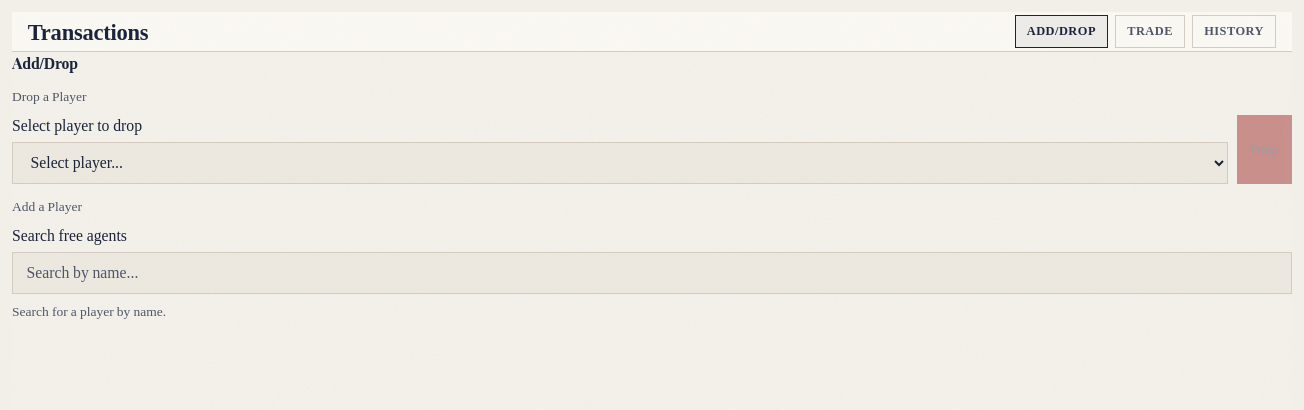
Test: TransactionsPage › shows error when add fails
The width and height of the screenshot is (1304, 410).
Type "Ruth" into the field labelled "Search free agents" at (652,273), box left=12, top=252, right=1292, bottom=294
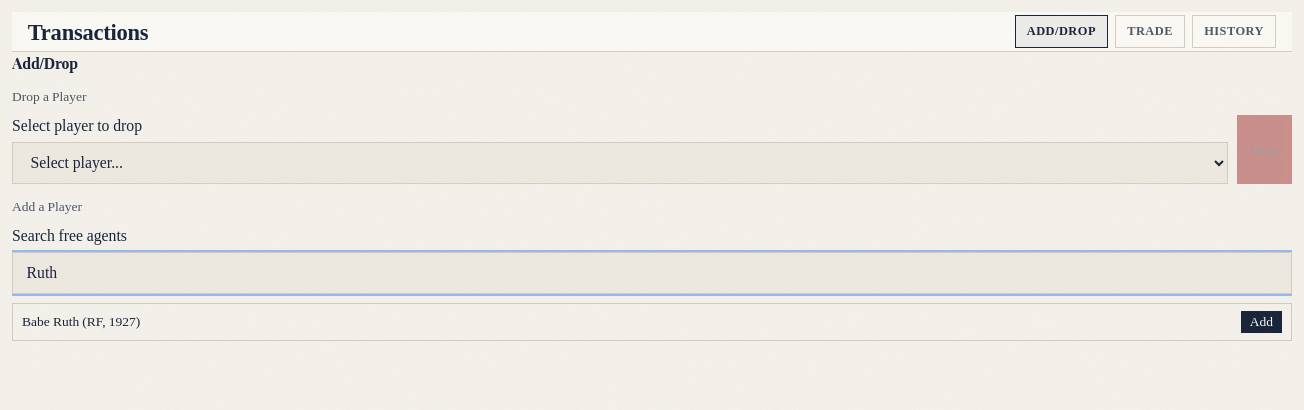
expect the text "Babe Ruth (RF, 1927)" is shown: met, box left=22, top=313, right=140, bottom=331
Click the button "Add" at (1261,322), box left=1241, top=311, right=1282, bottom=333
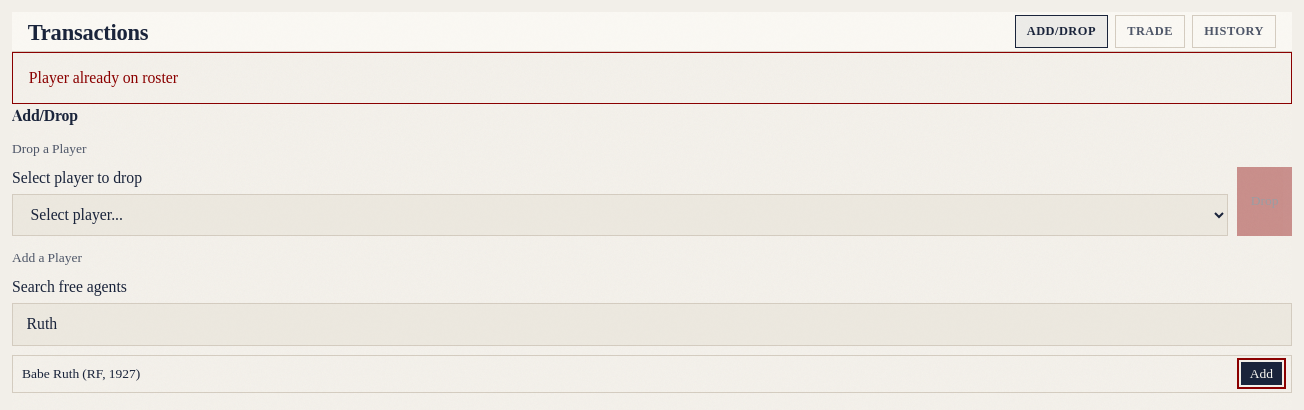
expect the text "Player already on roster" is shown: met, box left=29, top=66, right=178, bottom=89
